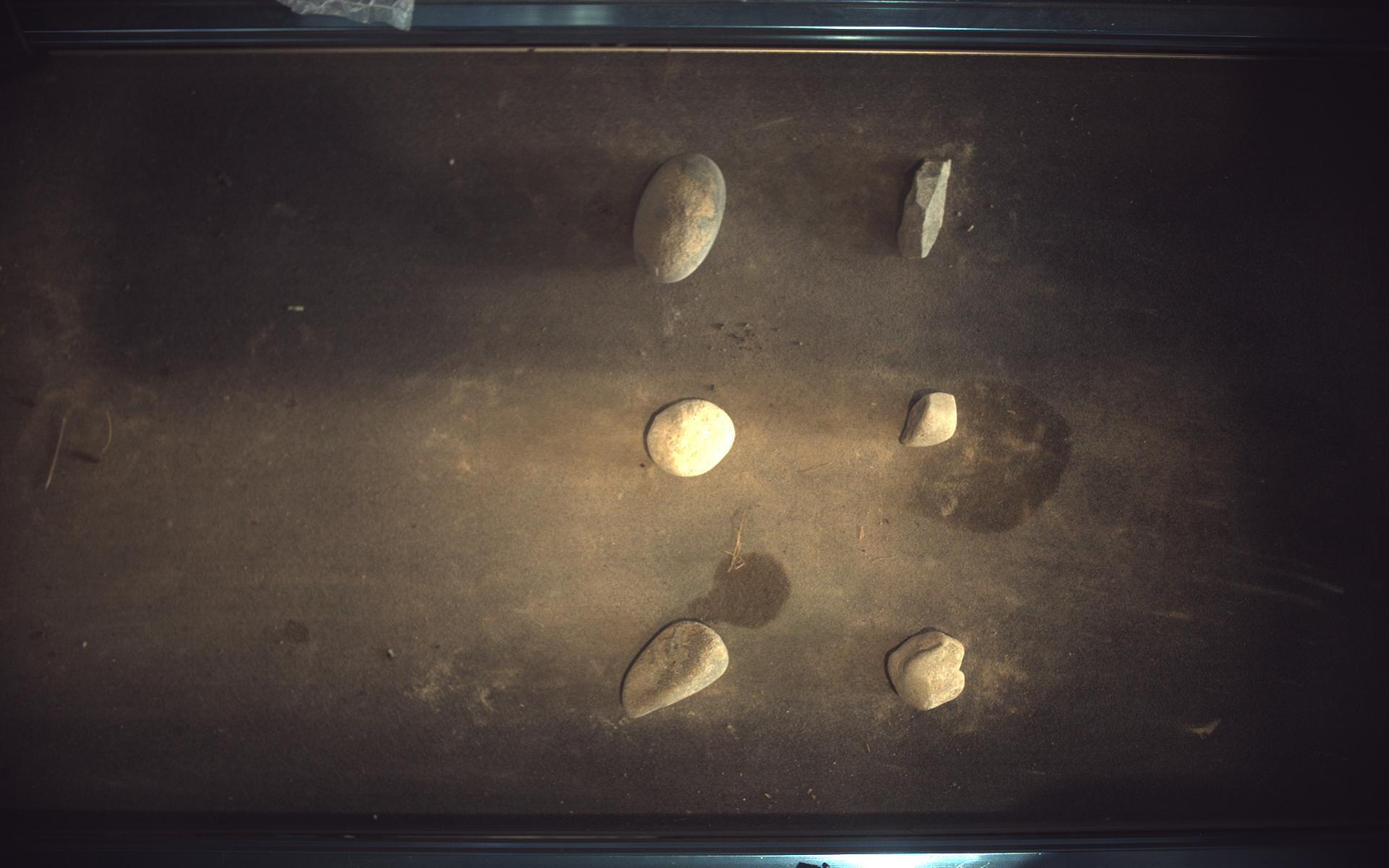stone: (634, 152, 727, 283), (622, 622, 729, 719), (647, 399, 736, 477), (888, 631, 967, 712), (900, 158, 953, 258), (901, 392, 959, 447)
